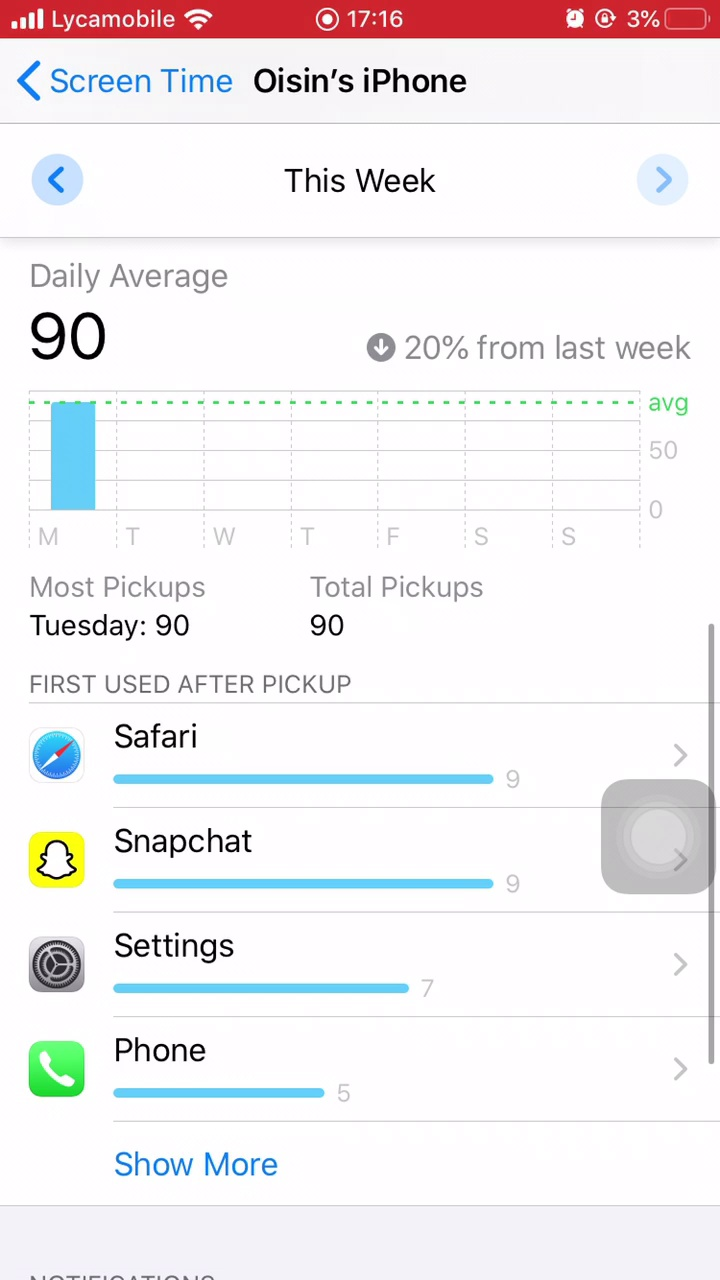pick_app: (26, 711, 561, 799), (21, 817, 548, 905), (20, 922, 481, 1011), (18, 1032, 376, 1117)
pick_over: (25, 567, 525, 652)
week: (271, 154, 454, 211)
